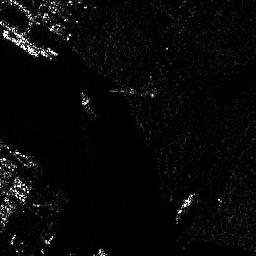ship: (1, 28, 40, 58)
